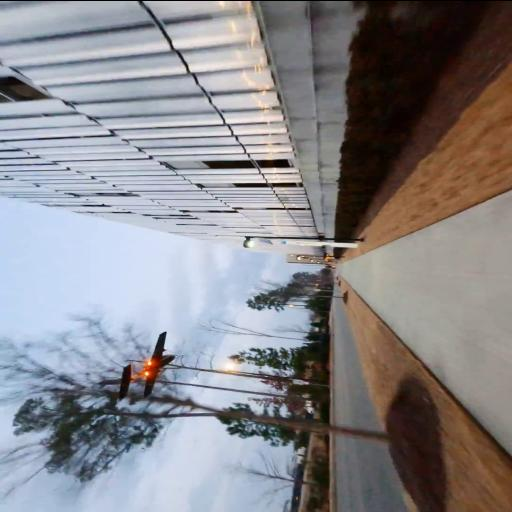uav: (93, 330, 179, 398)
